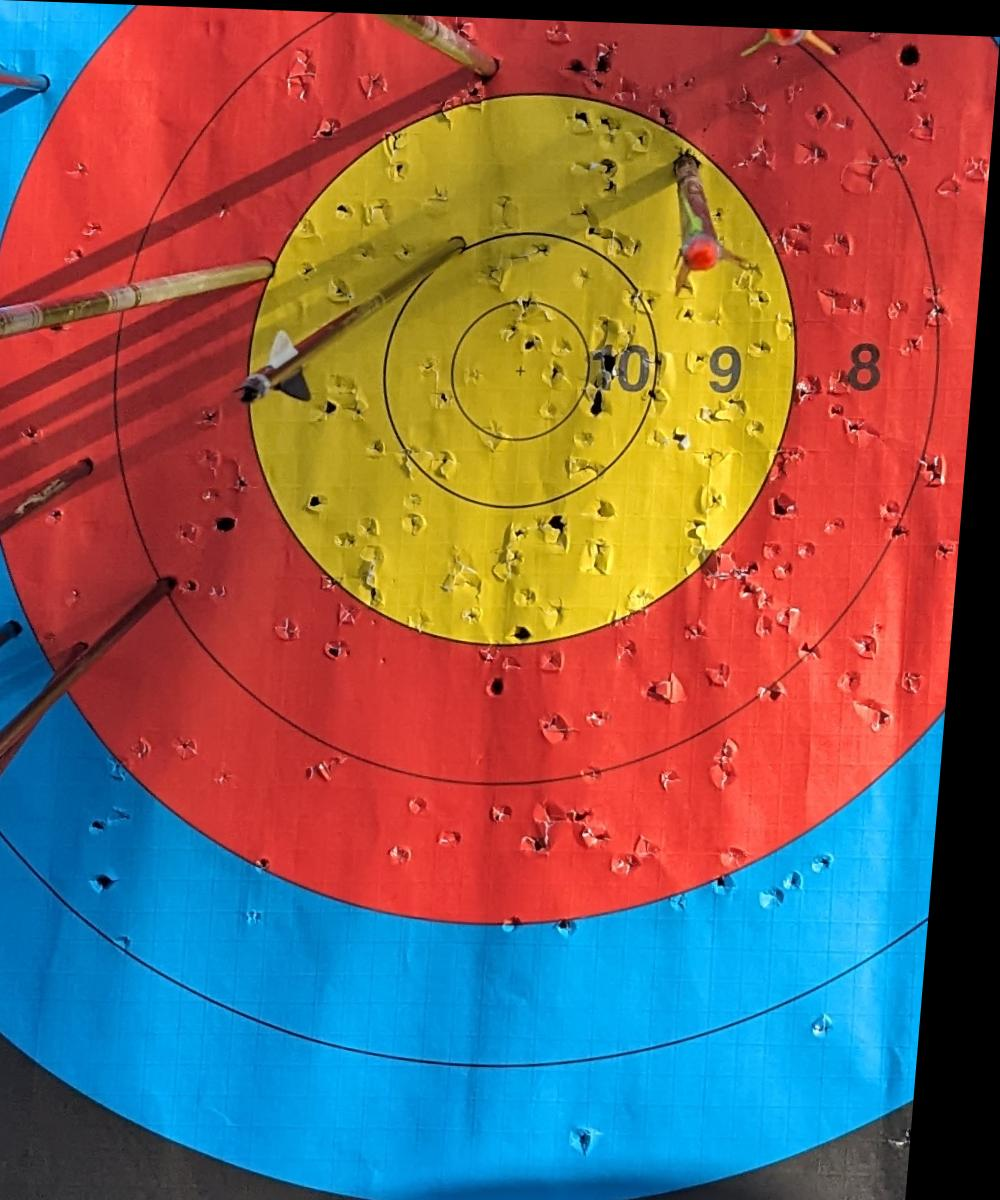10-Ring: (335, 178, 717, 558)
7-Ring: (0, 0, 999, 934)
8-Ring: (110, 4, 951, 793)
9-Ring: (248, 81, 811, 650)
Arrow: (230, 191, 474, 434), (0, 571, 187, 769), (0, 245, 282, 340), (0, 635, 101, 791), (0, 455, 102, 543), (741, 21, 836, 51)
